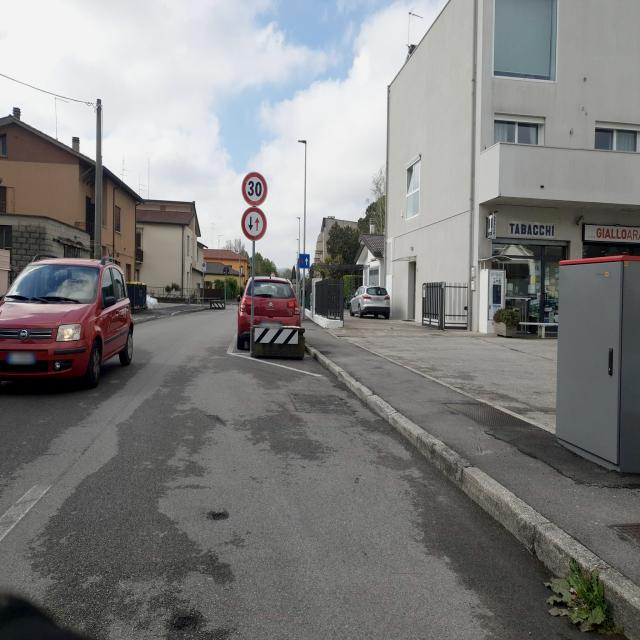car: (0, 254, 134, 390), (237, 275, 305, 359), (349, 284, 391, 319)
